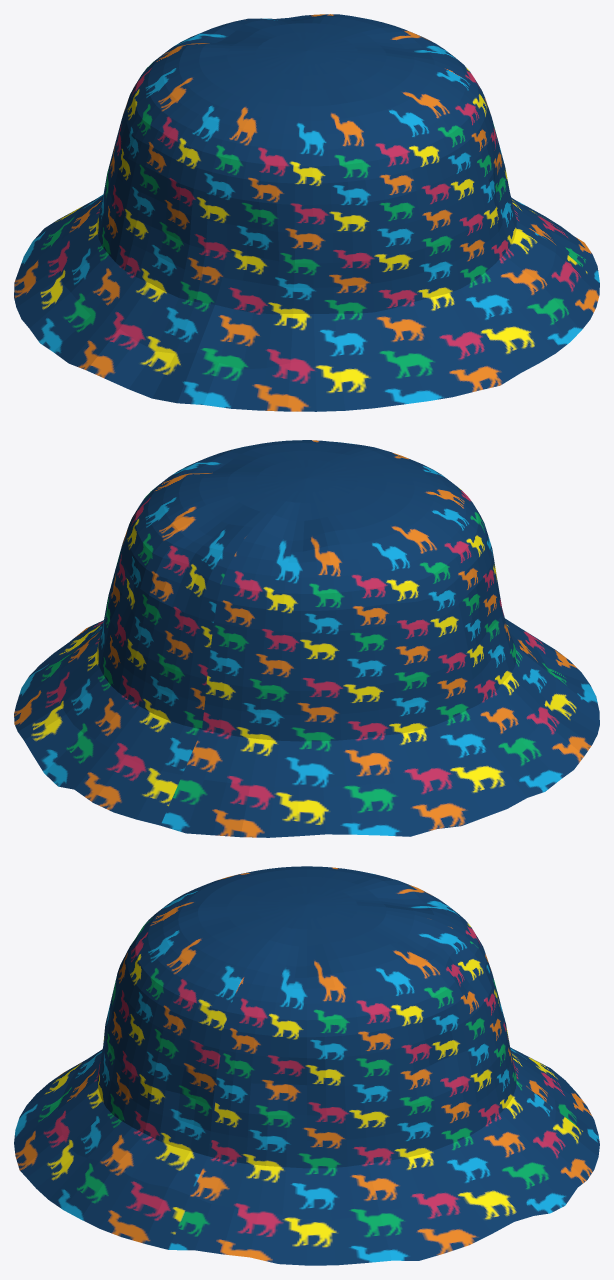
File: toopi.fbx
3 renders of one model, top to bottom at view 1: azimuth 30°, elevation 25°; view 2: azimuth 150°, elevation 25°; view 3: azimuth 270°, elevation 25°, orthographic.
Visible parts, largest first — view 1: Sphere; view 2: Sphere; view 3: Sphere.
Part boxes in pixels (left/top/right/bottom): Sphere: left=14, top=14, right=599, bottom=411; Sphere: left=14, top=440, right=599, bottom=837; Sphere: left=14, top=866, right=599, bottom=1265.
Bounding box in the file's own units: 268 × 122 × 268.
